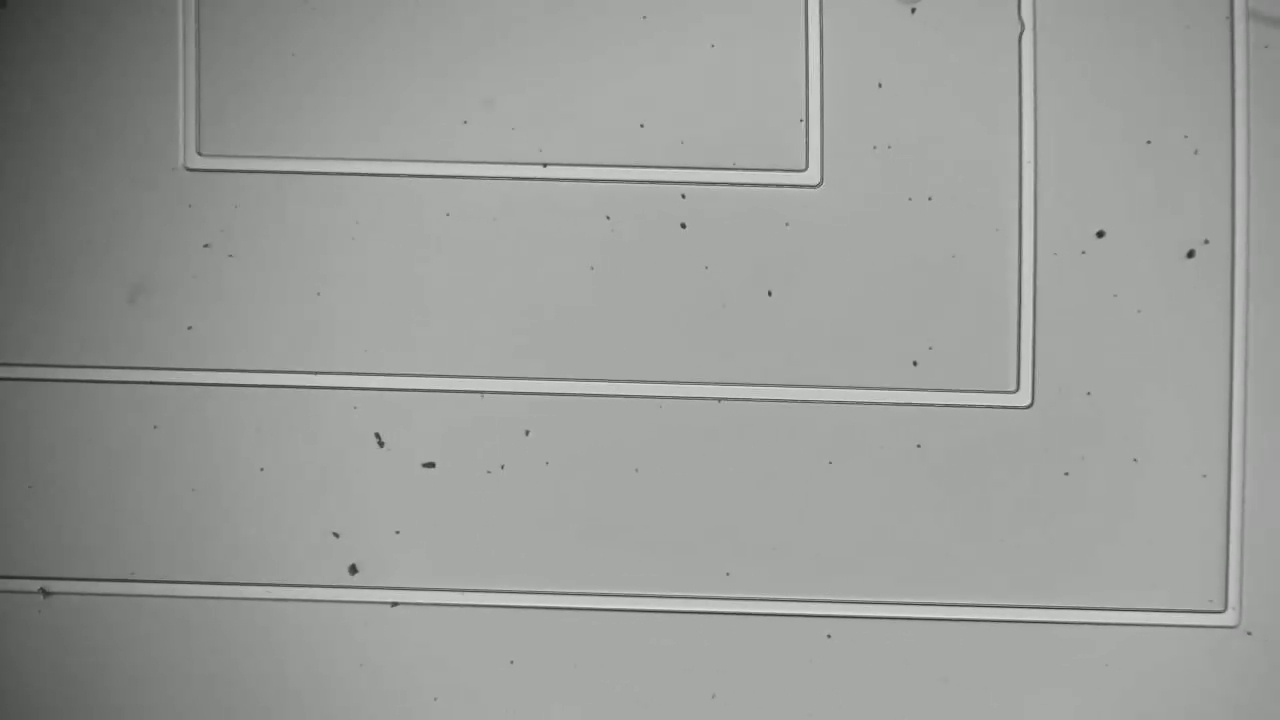edge_bite: (1009, 13, 1045, 46)
stains_enbedded: (30, 572, 59, 604)
